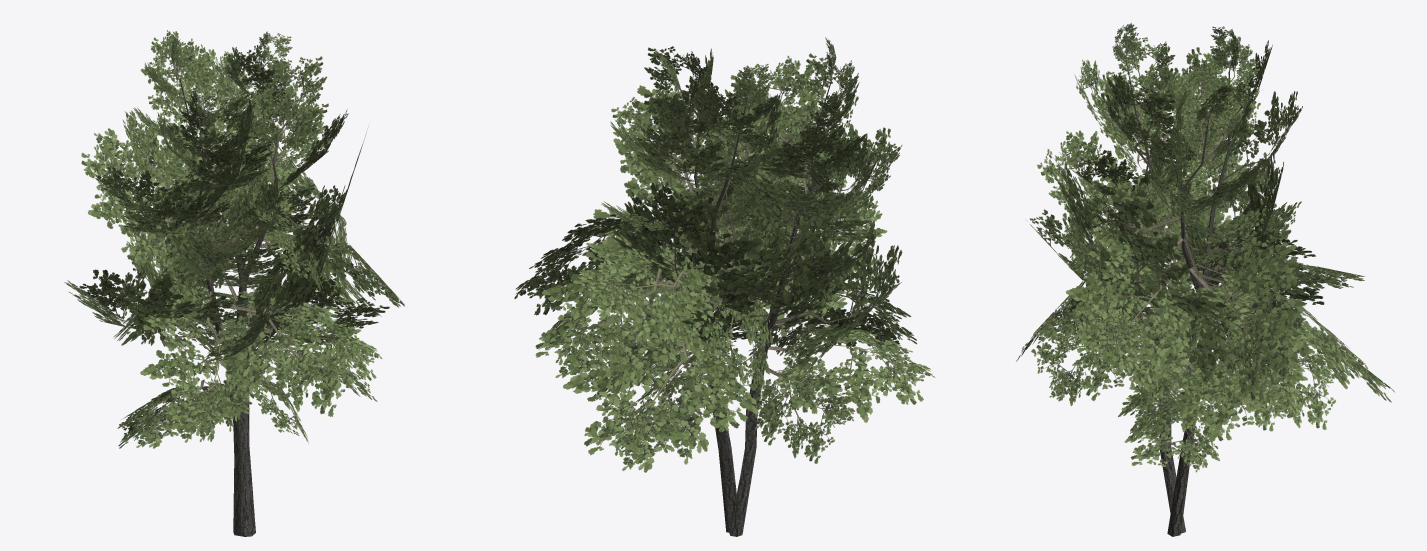
The model's file is tree1.glb.
The picture shows the model from 3 angles, left to right: view 1: azimuth 30°, elevation 25°; view 2: azimuth 150°, elevation 25°; view 3: azimuth 270°, elevation 25°; orthographic projection. The views are drawn at different scales.
Visible parts, largest first — view 1: Tree-02-1; view 2: Tree-02-1; view 3: Tree-02-1.
Boxes of the visible parts, left/top/right/bottom form: Tree-02-1: left=64, top=30, right=404, bottom=536; Tree-02-1: left=514, top=37, right=935, bottom=536; Tree-02-1: left=1016, top=23, right=1394, bottom=536.
Bounding box in the file's own units: 5.64 × 7.39 × 5.71.
Materials: 3 (3 with a texture image).
